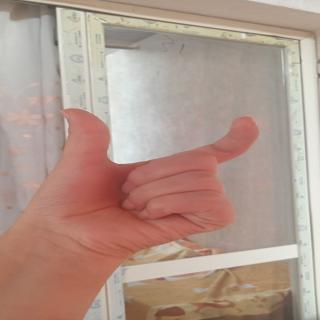NOON: (46, 94, 265, 238)
